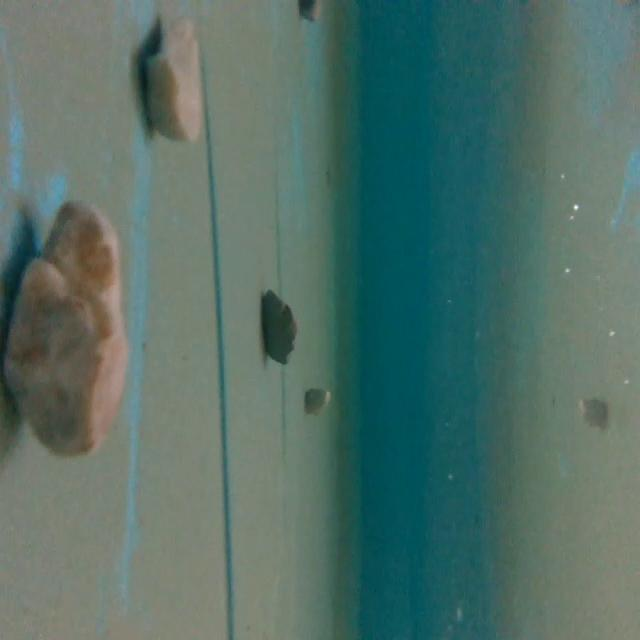rock: (3, 195, 135, 468), (138, 15, 208, 152), (255, 282, 300, 370), (304, 385, 332, 417)
